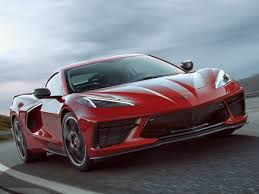car: (4, 48, 254, 181)
